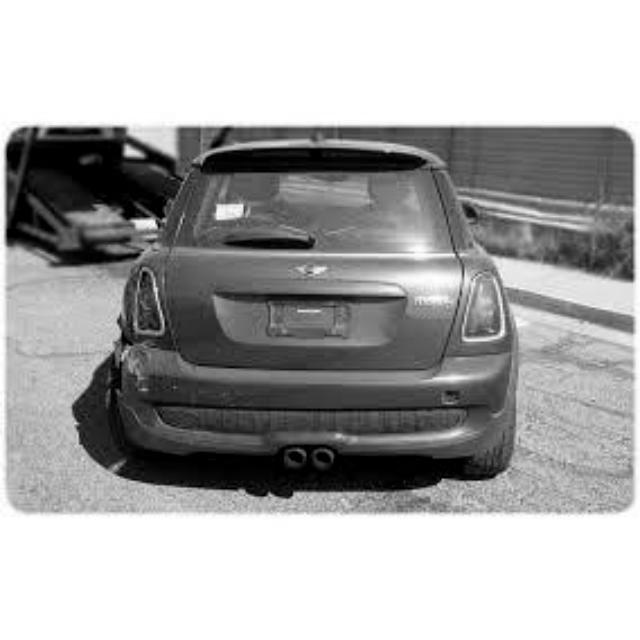rear-bumper-dent: (118, 343, 250, 448)
